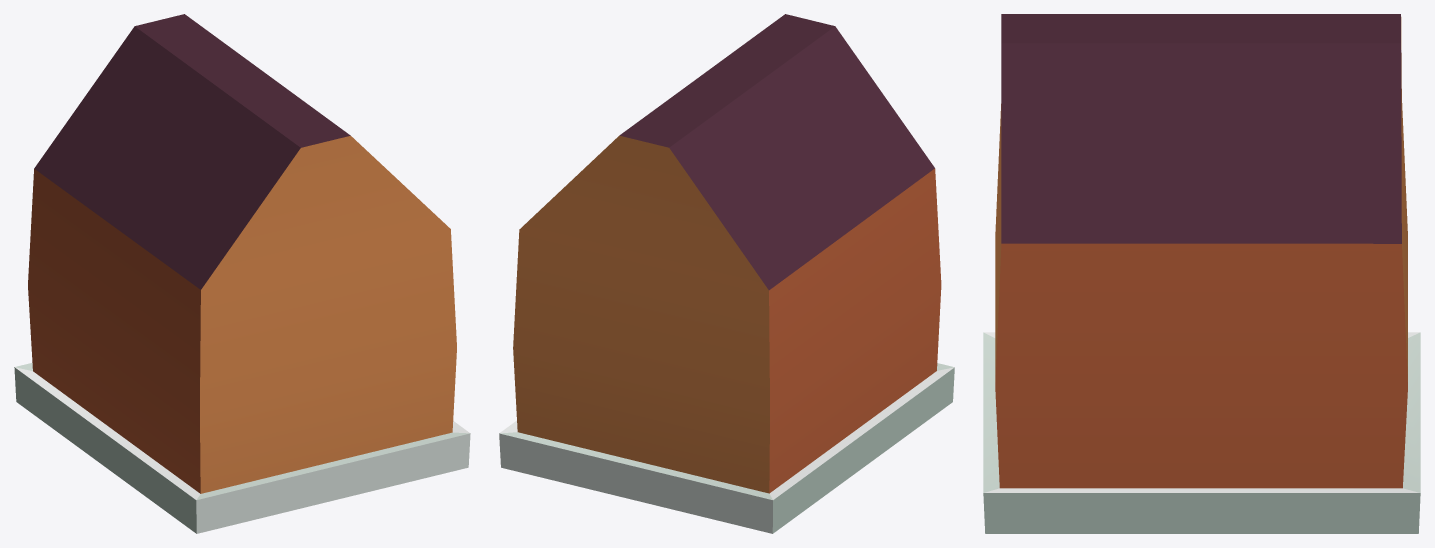
File: House01_Orange_White.glb
3 views of the same model, side by side, from view 1: azimuth 30°, elevation 25°; view 2: azimuth 150°, elevation 25°; view 3: azimuth 270°, elevation 25° (orthographic). The views are drawn at different scales.
Visible parts, largest first — view 1: House01_Orange_White; view 2: House01_Orange_White; view 3: House01_Orange_White.
Boxes of the visible parts, box(x1,y1,x2,y2) form: House01_Orange_White: box(14, 14, 470, 533); House01_Orange_White: box(499, 14, 954, 533); House01_Orange_White: box(983, 14, 1420, 533).
Size of the model in its own units: 2.04 by 2.51 by 2.34.
1 material, 1 textured.
